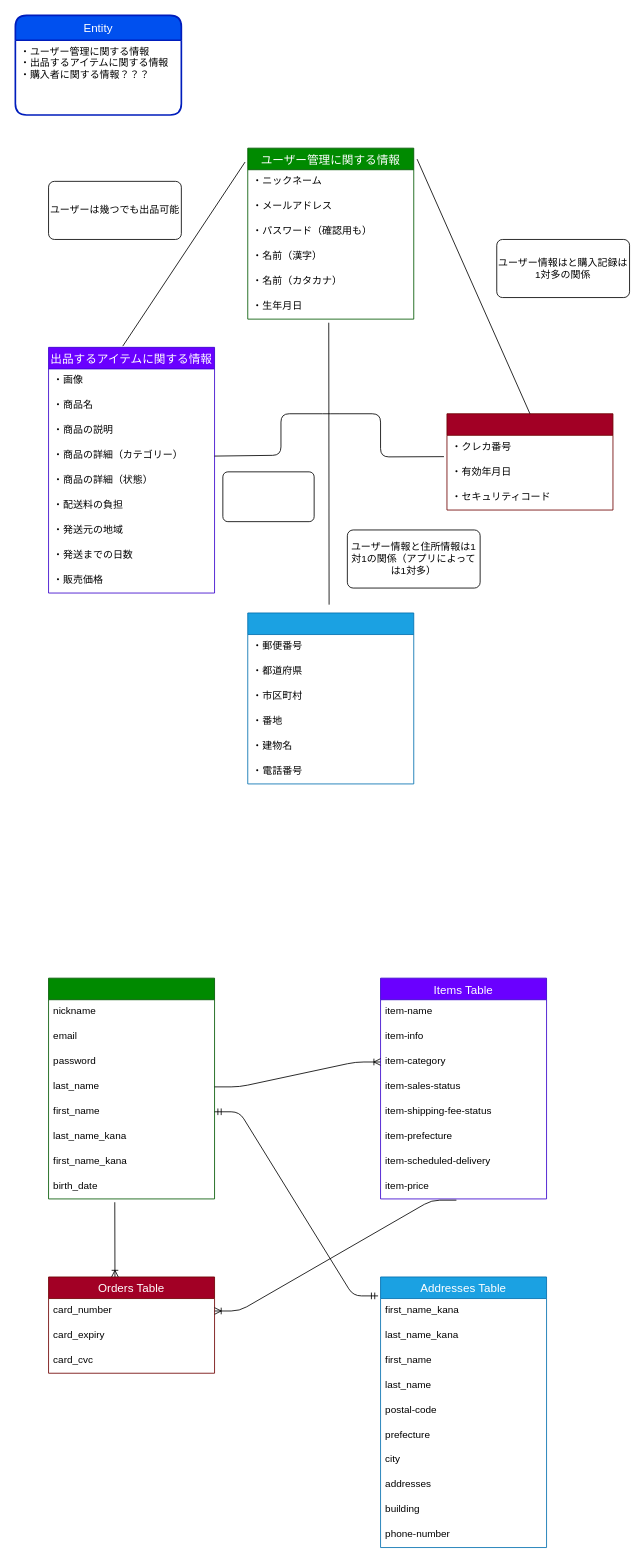
This 644x1564 diagram has some shape labels left out. The box of each missing label's shape, as (x1, y1, x2, y2) in pixels:
Users Table: (48, 977, 215, 1199)
アイテム情報と購入記録は 1対1の関係: (222, 471, 314, 522)
住所情報に関する情報: (247, 612, 414, 784)
購入記録に関する情報: (446, 413, 613, 510)
